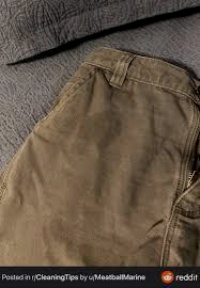oil: (91, 108, 129, 156)
